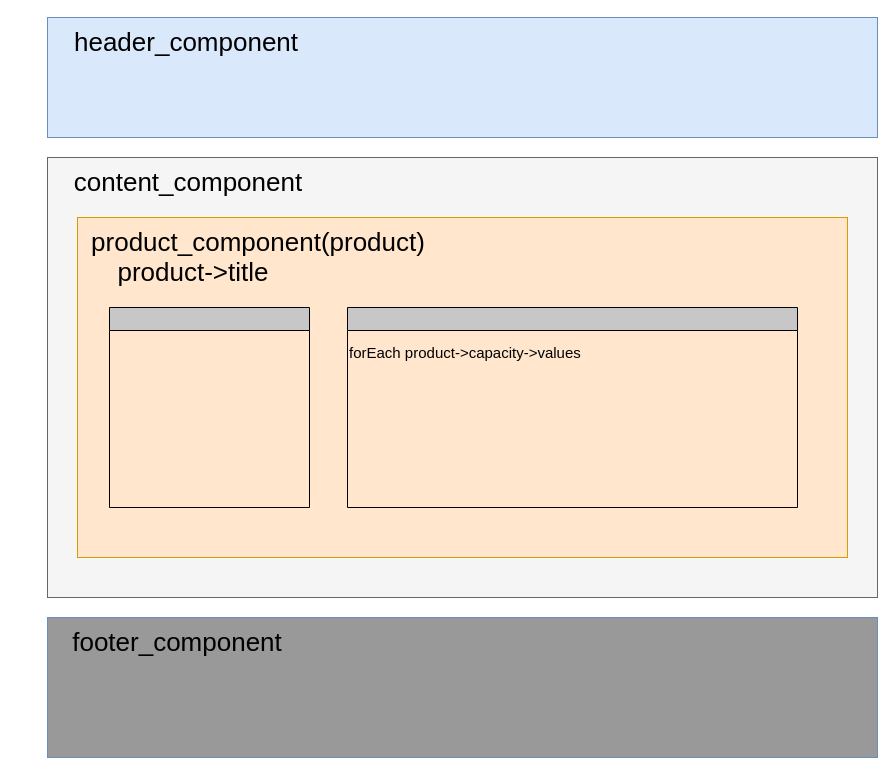
Image size: 895x775. Some labels were removed from this diagram. The shapes that lost their labels are listed below. From the top down, each one's box as (x1, y1, x2, y2) in pixels, then its label:
(108, 306, 310, 508): image_widget
(346, 306, 798, 508): tabs_component(product)
